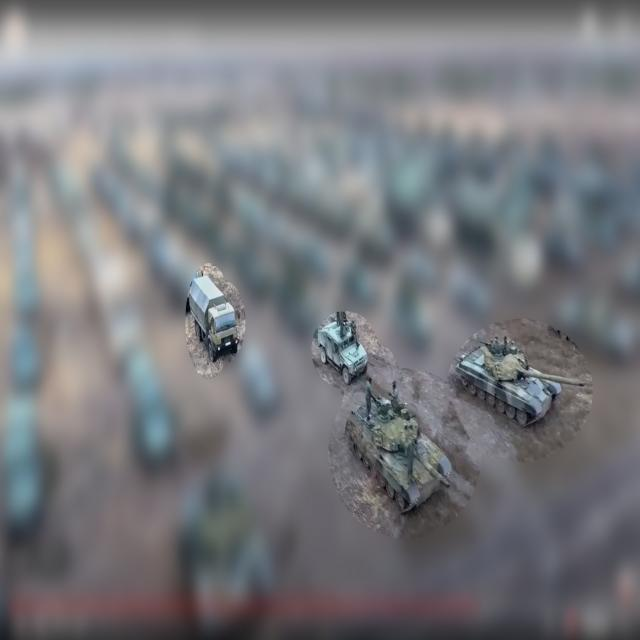tank: (345, 394, 455, 519), (450, 333, 586, 430)
